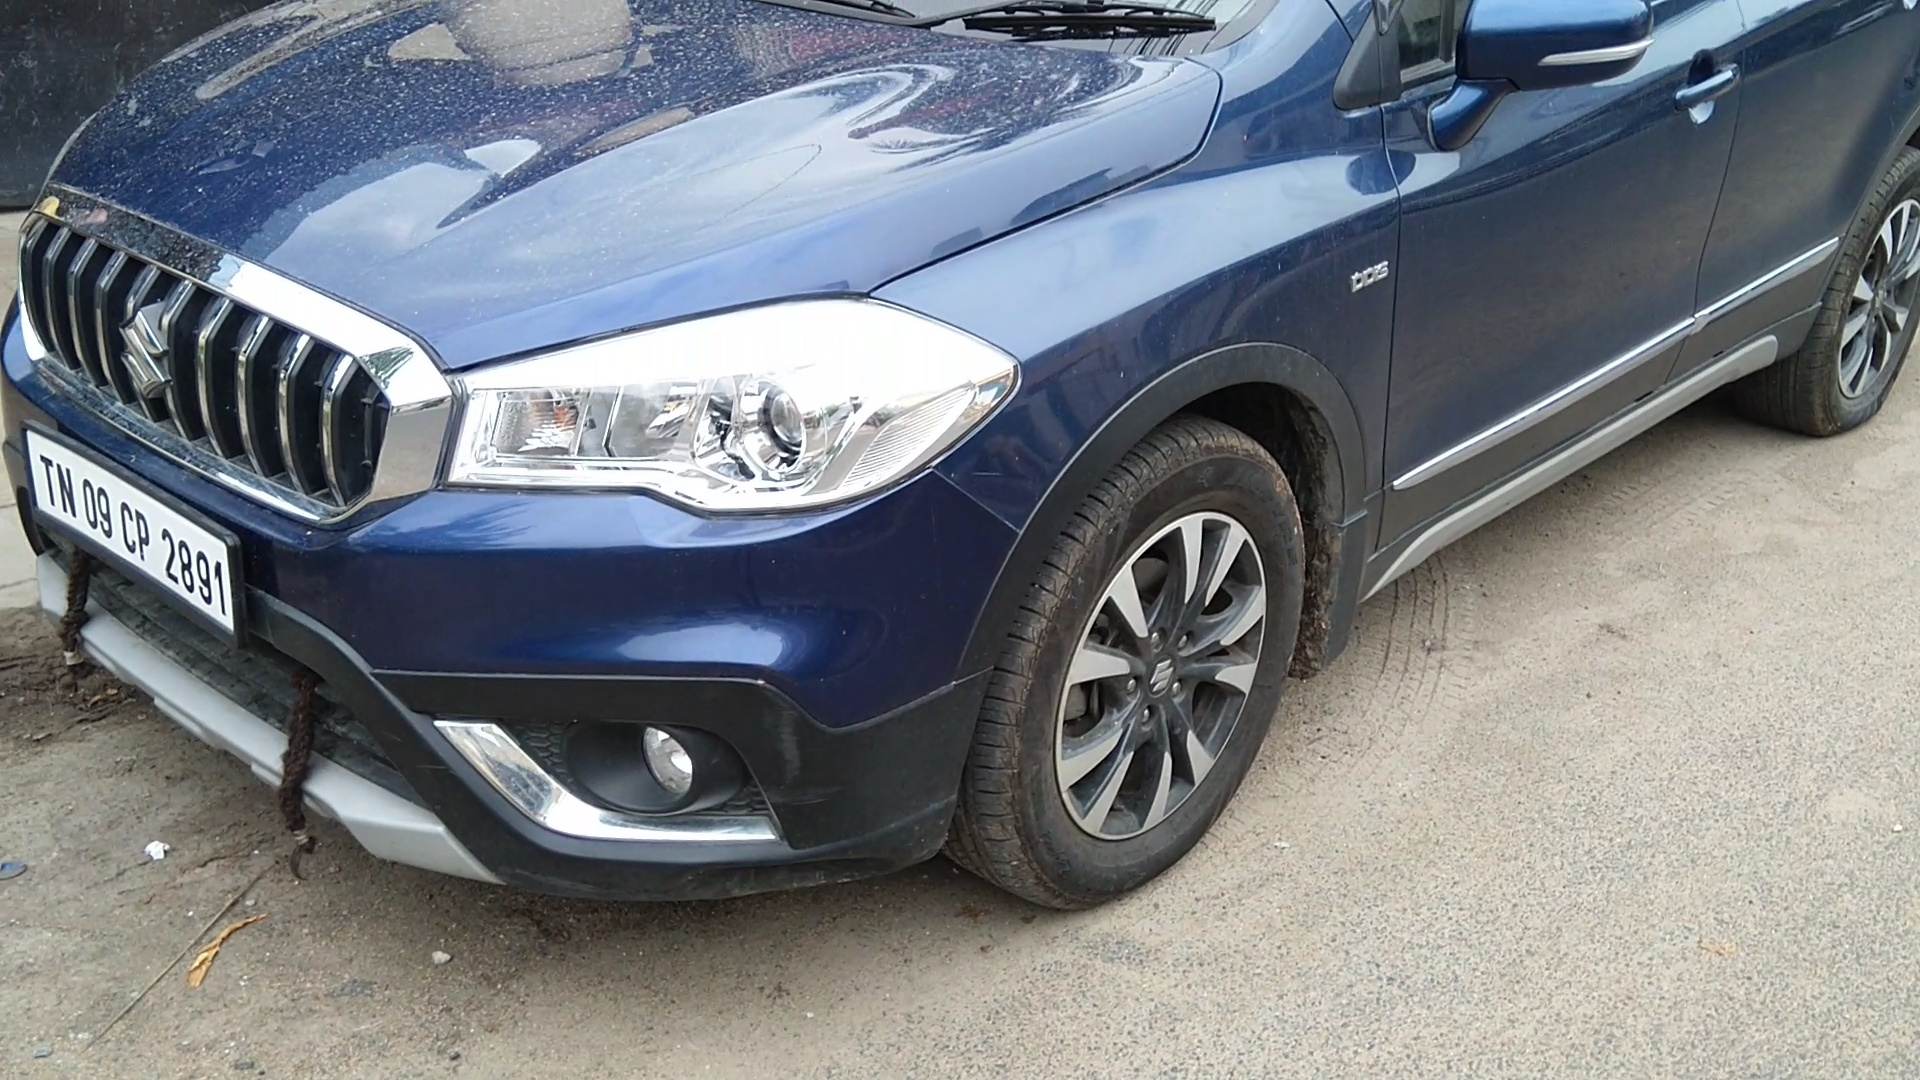alloy_wheel: (1011, 429, 1300, 913), (1822, 156, 1920, 448)
front_grill: (47, 161, 438, 558)
headlamp: (450, 281, 1029, 520)
